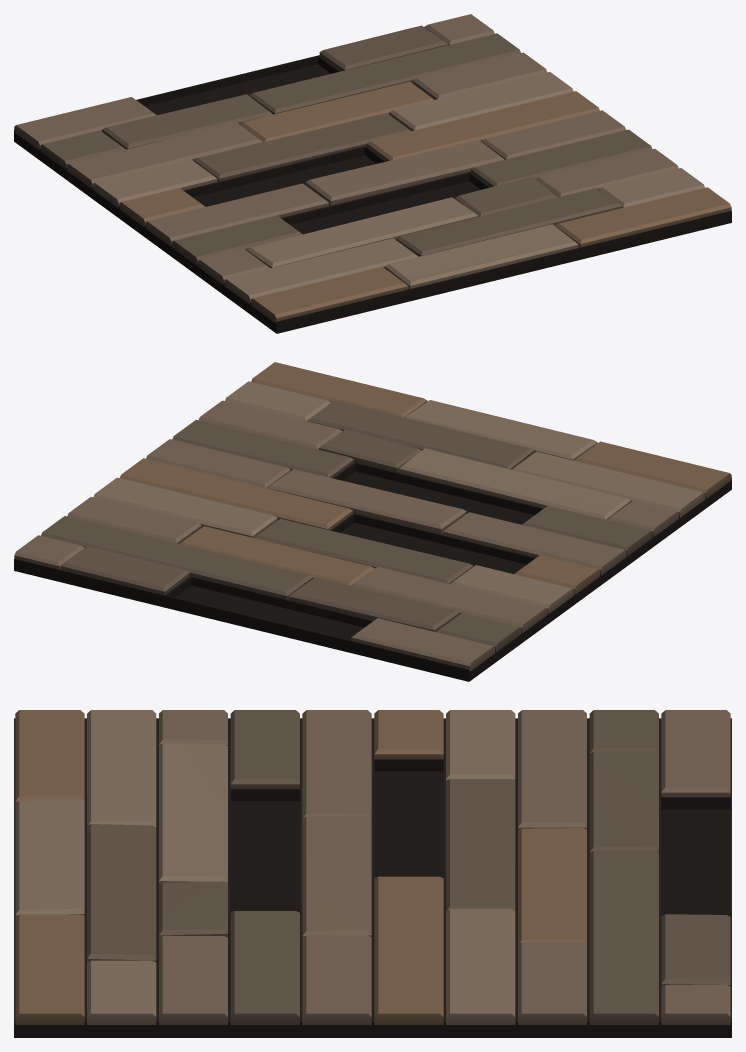
The model's file is floor_planks_rotten_large_B.glb.
3 renders of one model, top to bottom at view 1: azimuth 30°, elevation 25°; view 2: azimuth 150°, elevation 25°; view 3: azimuth 270°, elevation 25°, orthographic. The views are drawn at different scales.
Visible parts, largest first — view 1: Item; view 2: Item; view 3: Item.
Part boxes in pixels (x1,y1,x2,y2): Item: (14, 14, 731, 333); Item: (14, 362, 731, 681); Item: (14, 710, 731, 1037).
Size of the model in its own units: 4 by 0.1675 by 4.
Materials: 1 (1 with a texture image).
